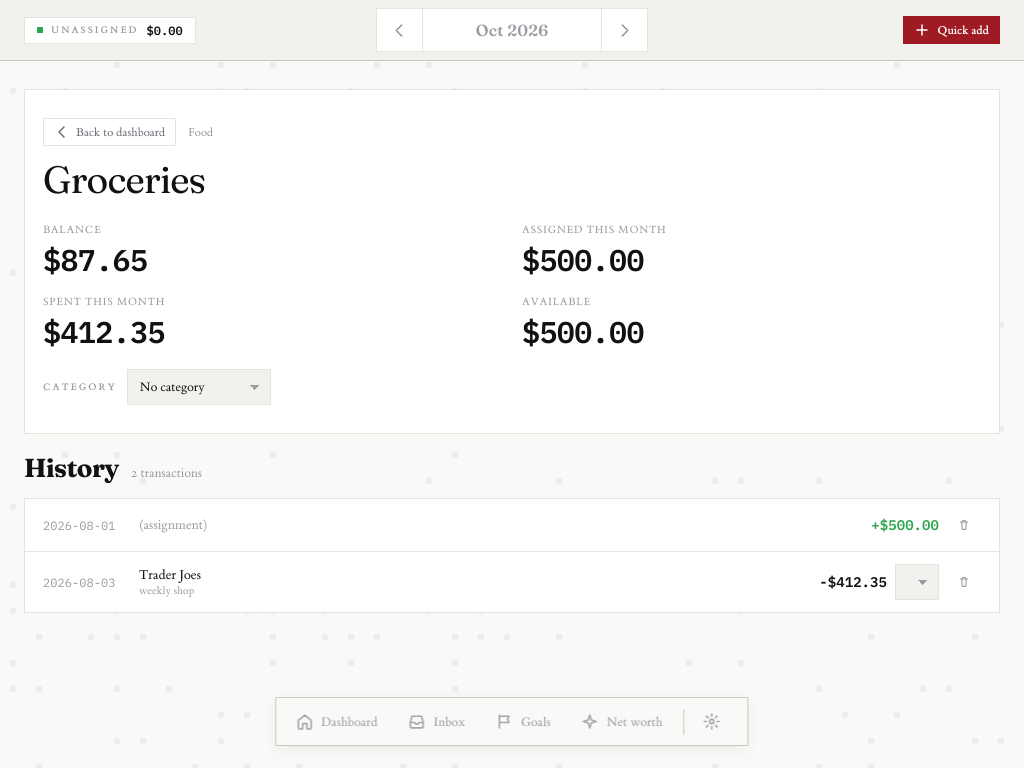
FundDetail › surfaces the server message when a move is rejected
The width and height of the screenshot is (1024, 768).
Select "Dining" in the dropdown named "Move transaction Trader Joes" at {"x": 917, "y": 582}, box 895,564 -> 939,600
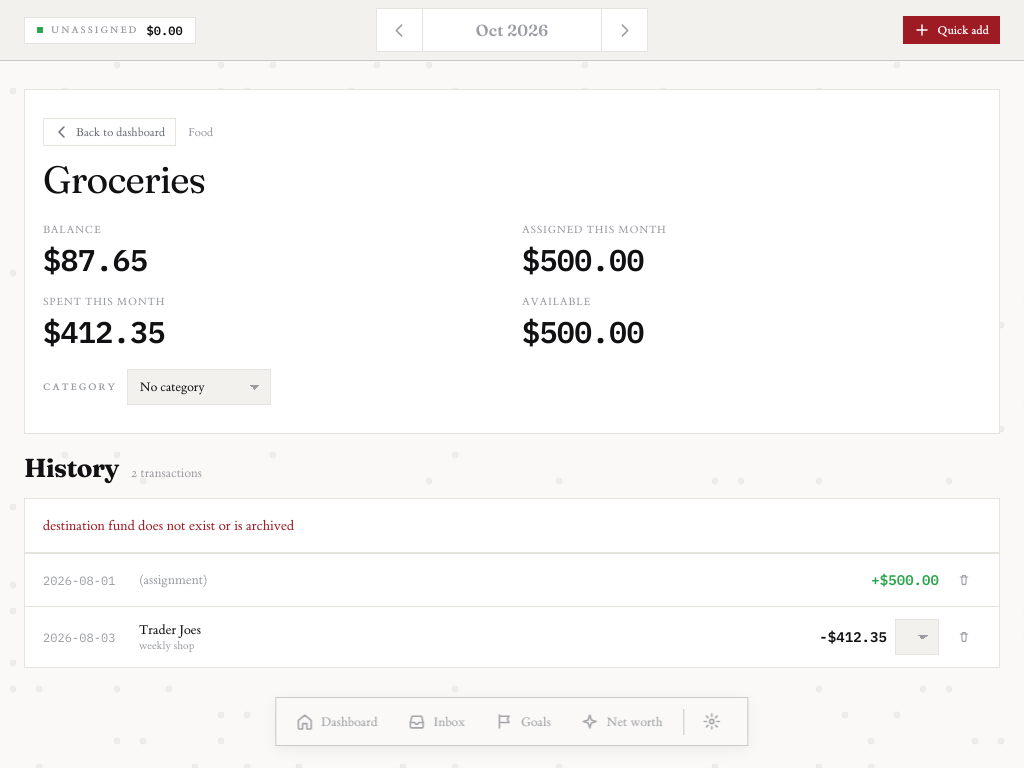
Expected: the text "destination fund does not exist or is archived" is shown, 43,517 -> 294,534
